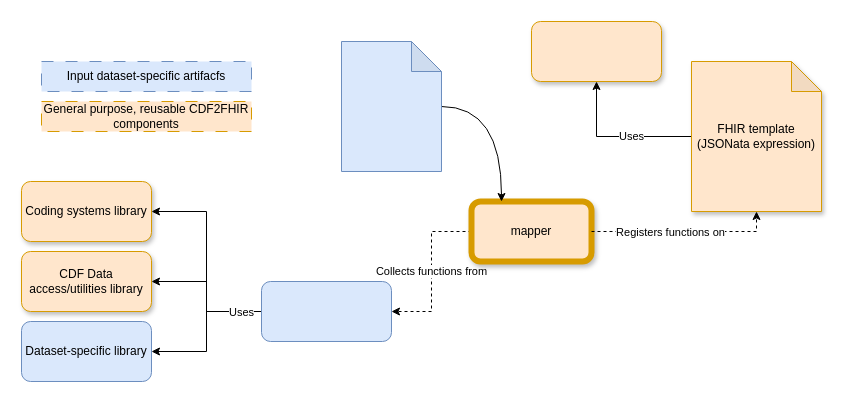
The diagram is 845 pixels wide and 399 high, and some of its shapes have lost their labels. Each missing label, with the centre of its shape:
"Mapping targets {Template, Pairing rules module}" goes at (391,106).
"Pairing rules module (TypeScript)" goes at (326,311).
"Resources linking library" goes at (597,52).
